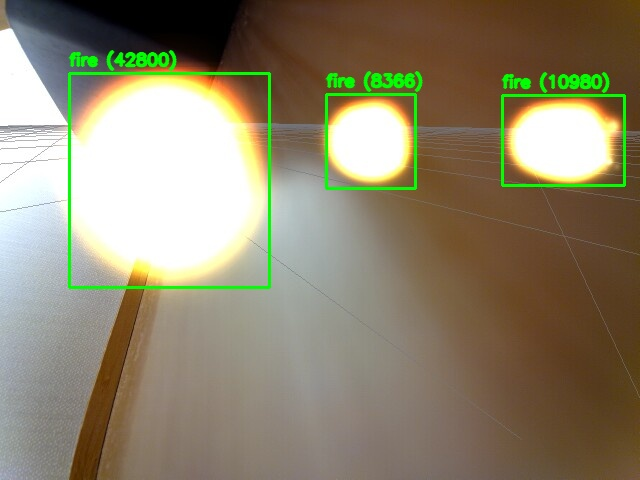fire: (69, 73, 269, 287), (502, 95, 624, 185), (326, 94, 415, 188)
